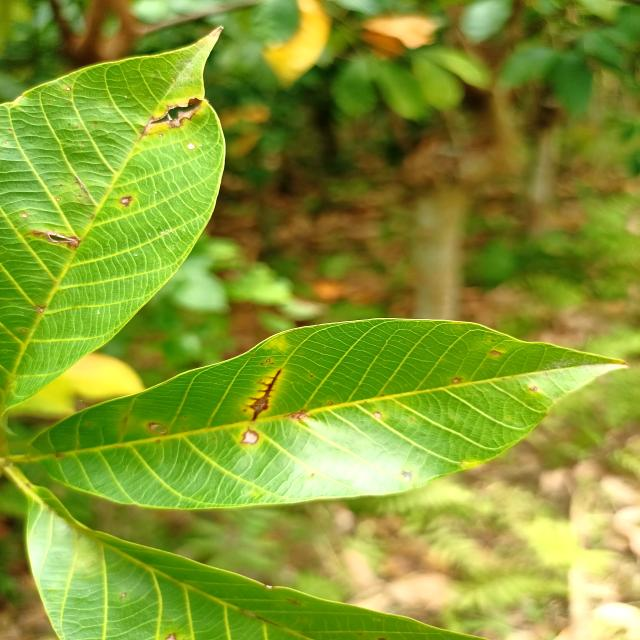Colletotrichum: (374, 412, 381, 418), (22, 213, 29, 218), (452, 378, 459, 382), (56, 198, 61, 202), (328, 401, 333, 405), (266, 359, 271, 362), (260, 363, 263, 365)
Corynespora: (245, 369, 281, 422), (27, 229, 81, 251)
Leaf-Blight: (242, 432, 258, 443)
